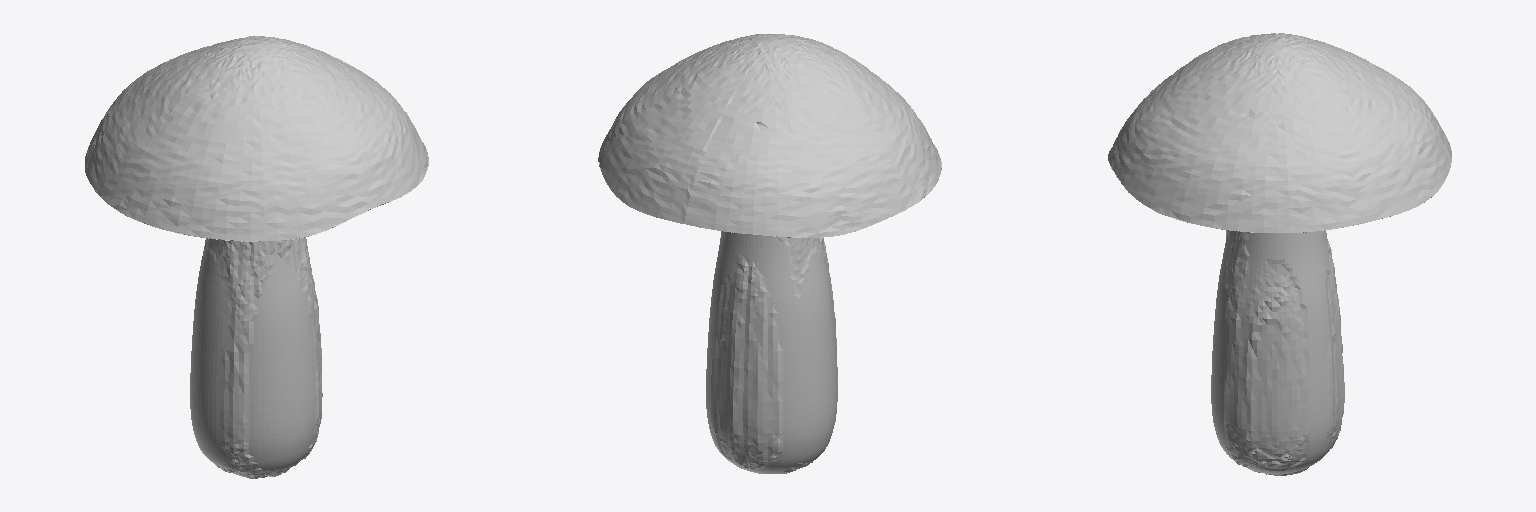
Rendered from mush1.obj.
3 renders of one model, left to right at view 1: azimuth 30°, elevation 25°; view 2: azimuth 150°, elevation 25°; view 3: azimuth 270°, elevation 25°, orthographic.
Parts seen in each view (by area): view 1: Cylinder; view 2: Cylinder; view 3: Cylinder.
Boxes of the visible parts, x1,y1,x2,y2 form: Cylinder: [85, 36, 428, 478]; Cylinder: [598, 34, 941, 473]; Cylinder: [1108, 33, 1451, 475].
Bounding box in the file's own units: 4.19 × 5.74 × 4.2.